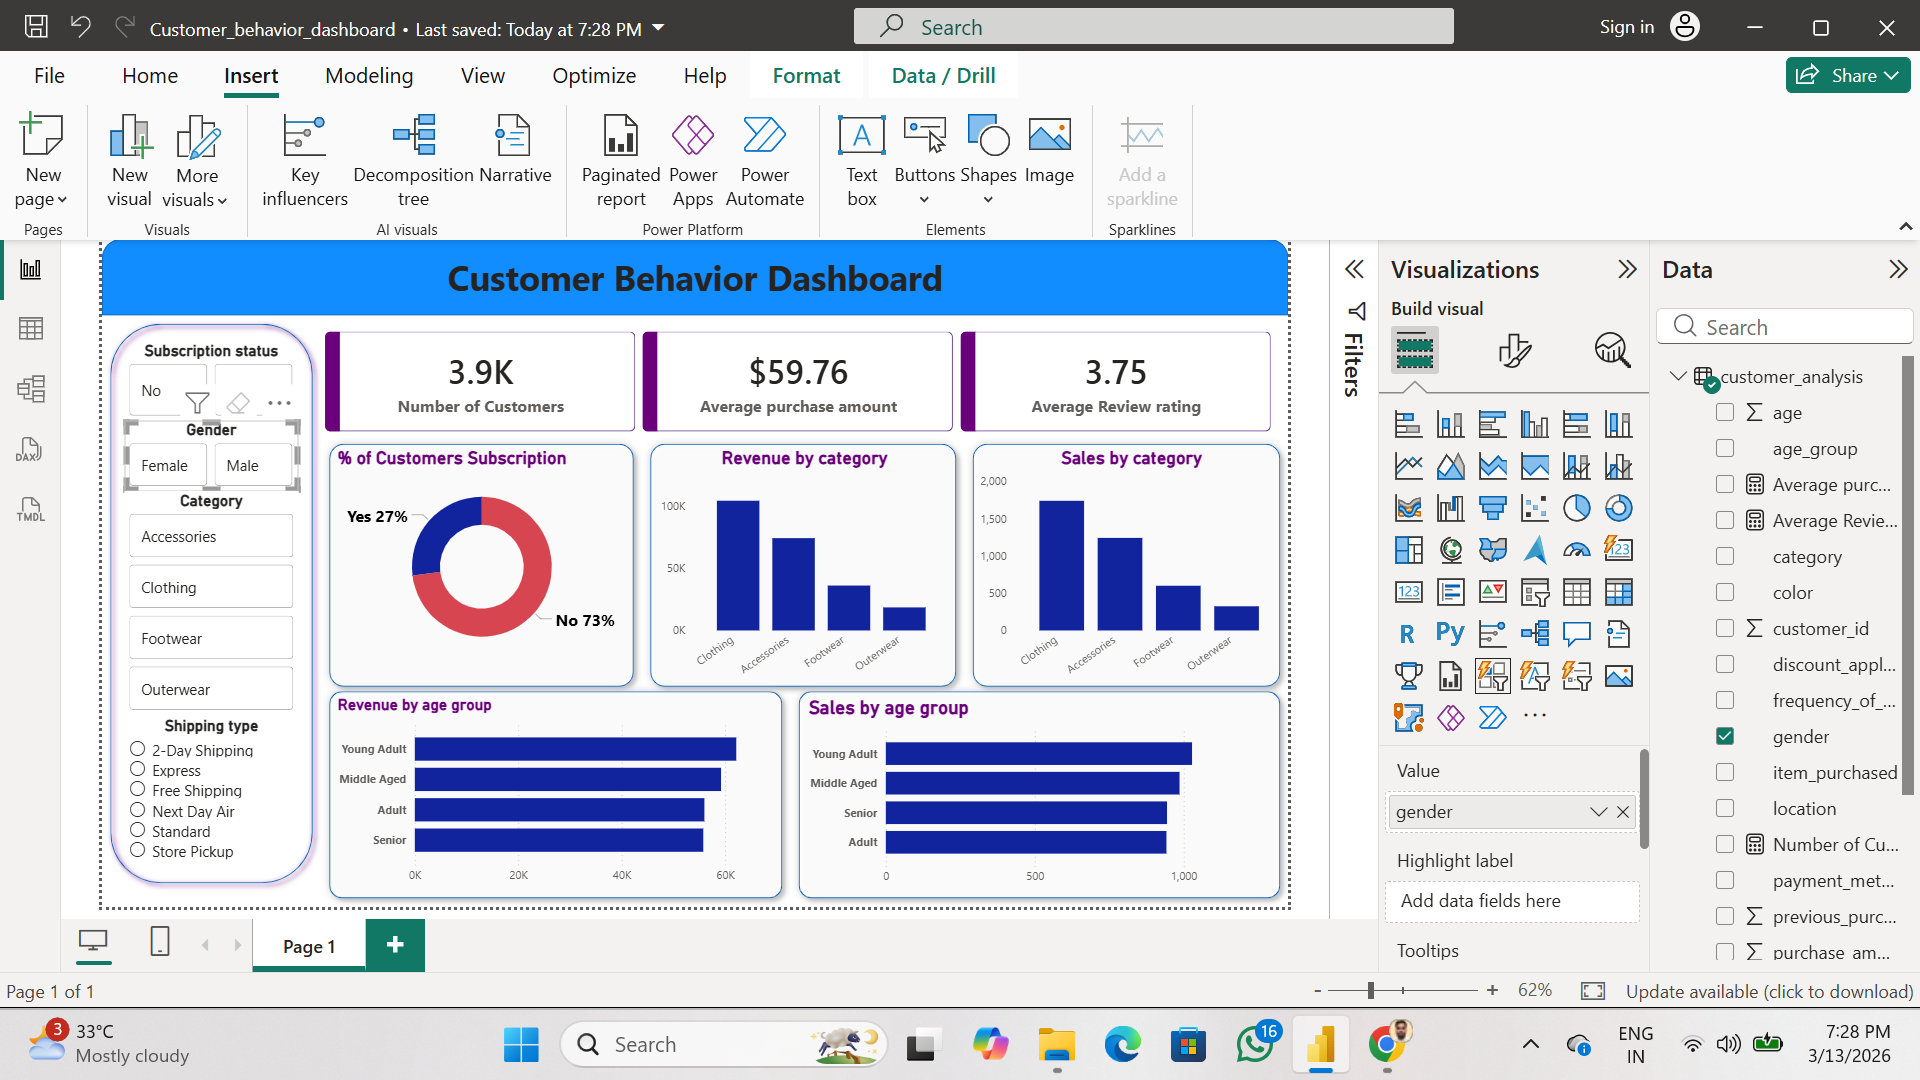

This screenshot's page, from the dashboard's own definition file:
{"tool":"powerbi","page":{"name":"Page 1","canvas":[1280,720],"ordinal":0},"visuals":[{"type":"cardVisual","fields":{"Data":["customer_analysis.Number of Customers","customer_analysis.Average purchase amount","customer_analysis.Average Review rating"]},"box":[223.5,82.6,1057.4,142.5],"z":0},{"type":"shape","box":[0,0,1280.7,82.5],"z":1000},{"type":"textbox","box":[0,11.3,1280.8,71.2],"z":2000},{"type":"shape","box":[236.4,212.1,346.5,280.1],"z":3000},{"type":"donutChart","title":"% of Customers Subscription","fields":{"Category":["customer_analysis.subscription_status"],"Y":["CountNonNull(customer_analysis.customer_id)"]},"box":[249.4,225.1,320.6,234.8],"z":4000},{"type":"shape","box":[582.9,212.1,348.1,280.1],"z":5000},{"type":"shape","box":[931.1,212.1,349.8,280.1],"z":6000},{"type":"clusteredColumnChart","title":"Revenue by category","fields":{"Y":["Sum(customer_analysis.purchase_amount)"],"Category":["customer_analysis.category"]},"box":[597.5,225.1,322.2,267.2],"z":7000},{"type":"clusteredColumnChart","title":"Sales by category","fields":{"Y":["CountNonNull(customer_analysis.customer_id)"],"Category":["customer_analysis.category"]},"box":[942.4,225.1,338.4,267.2],"z":8000},{"type":"shape","box":[0,82.6,236.4,621.8],"z":9000},{"type":"advancedSlicerVisual","title":"Subscription status","fields":{"Values":["customer_analysis.subscription_status"]},"box":[24.3,110.1,187.8,85.8],"z":10000},{"type":"advancedSlicerVisual","title":"Gender","fields":{"Values":["customer_analysis.gender"]},"box":[24.3,195.9,187.8,76.1],"z":11000},{"type":"advancedSlicerVisual","title":"Category","fields":{"Values":["customer_analysis.category"]},"box":[24.3,272,187.8,244.5],"z":12000},{"type":"listSlicer","title":"Shipping type","fields":{"Values":["customer_analysis.shipping_type"]},"box":[24.3,514.9,187.8,205.6],"z":13000},{"type":"shape","box":[236.4,479.3,506.8,241.3],"z":13001},{"type":"clusteredBarChart","title":"Revenue by age group","fields":{"Y":["Sum(customer_analysis.purchase_amount)"],"Category":["customer_analysis.age_group"]},"box":[249.4,492.2,493.9,212.1],"z":13002},{"type":"shape","box":[743.2,479.3,537.6,241.3],"z":13003},{"type":"clusteredBarChart","title":"Sales by age group","fields":{"Y":["CountNonNull(customer_analysis.purchase_amount)"],"Category":["customer_analysis.age_group"]},"box":[757.8,493.9,493.9,212.1],"z":13004}]}

Visuals, with their boxes on the page's 1280x720 design canvas (x1, y1, x2, y2). These are canvas units, not pixel positions in the 1920x1080 screenshot, which may show the page scaled, cropped or inside an application window:
cardVisual - customer_analysis.Number of Customers x customer_analysis.Average purchase amount: (left=224, top=83, right=1281, bottom=225)
shape: (left=0, top=0, right=1281, bottom=82)
textbox: (left=0, top=11, right=1281, bottom=82)
shape: (left=236, top=212, right=583, bottom=492)
"% of Customers Subscription" donutChart: (left=249, top=225, right=570, bottom=460)
shape: (left=583, top=212, right=931, bottom=492)
shape: (left=931, top=212, right=1281, bottom=492)
"Revenue by category" clusteredColumnChart: (left=598, top=225, right=920, bottom=492)
"Sales by category" clusteredColumnChart: (left=942, top=225, right=1281, bottom=492)
shape: (left=0, top=83, right=236, bottom=704)
"Subscription status" advancedSlicerVisual: (left=24, top=110, right=212, bottom=196)
"Gender" advancedSlicerVisual: (left=24, top=196, right=212, bottom=272)
"Category" advancedSlicerVisual: (left=24, top=272, right=212, bottom=516)
"Shipping type" listSlicer: (left=24, top=515, right=212, bottom=720)
shape: (left=236, top=479, right=743, bottom=721)
"Revenue by age group" clusteredBarChart: (left=249, top=492, right=743, bottom=704)
shape: (left=743, top=479, right=1281, bottom=721)
"Sales by age group" clusteredBarChart: (left=758, top=494, right=1252, bottom=706)
